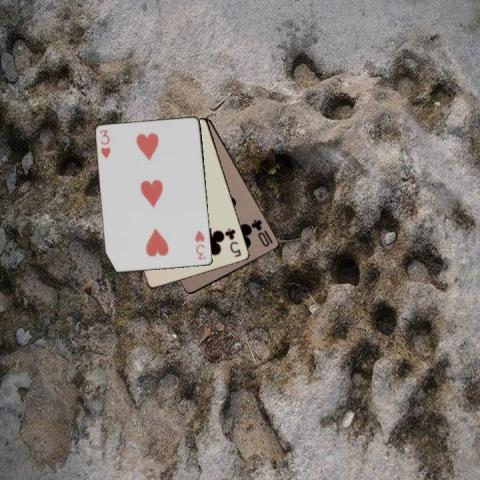10c: (248, 217, 274, 248)
3h: (192, 228, 207, 262), (97, 127, 112, 160)
5c: (223, 225, 243, 259)
